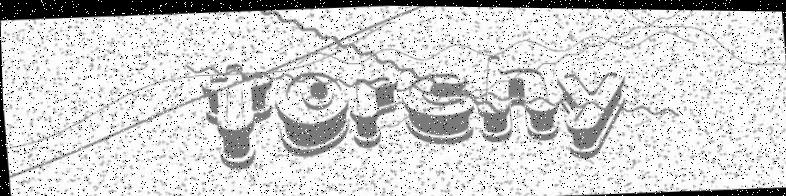c: (399, 71, 476, 145)
h: (473, 51, 561, 141)
o: (272, 70, 351, 158)
r: (347, 75, 401, 147)
t: (199, 61, 276, 170)
y: (556, 71, 628, 157)
